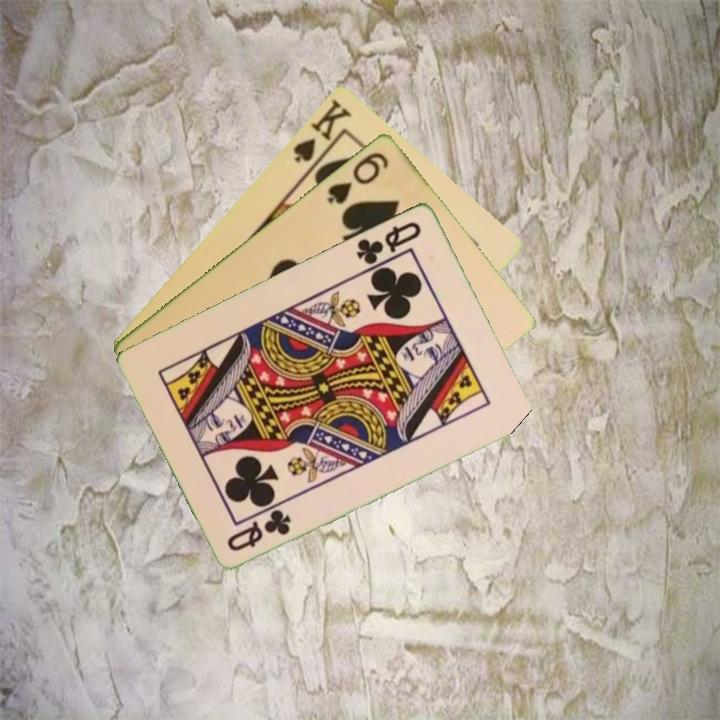6s: (323, 148, 392, 207)
Ks: (289, 95, 355, 176)
Qc: (352, 217, 425, 267), (223, 505, 295, 554)
